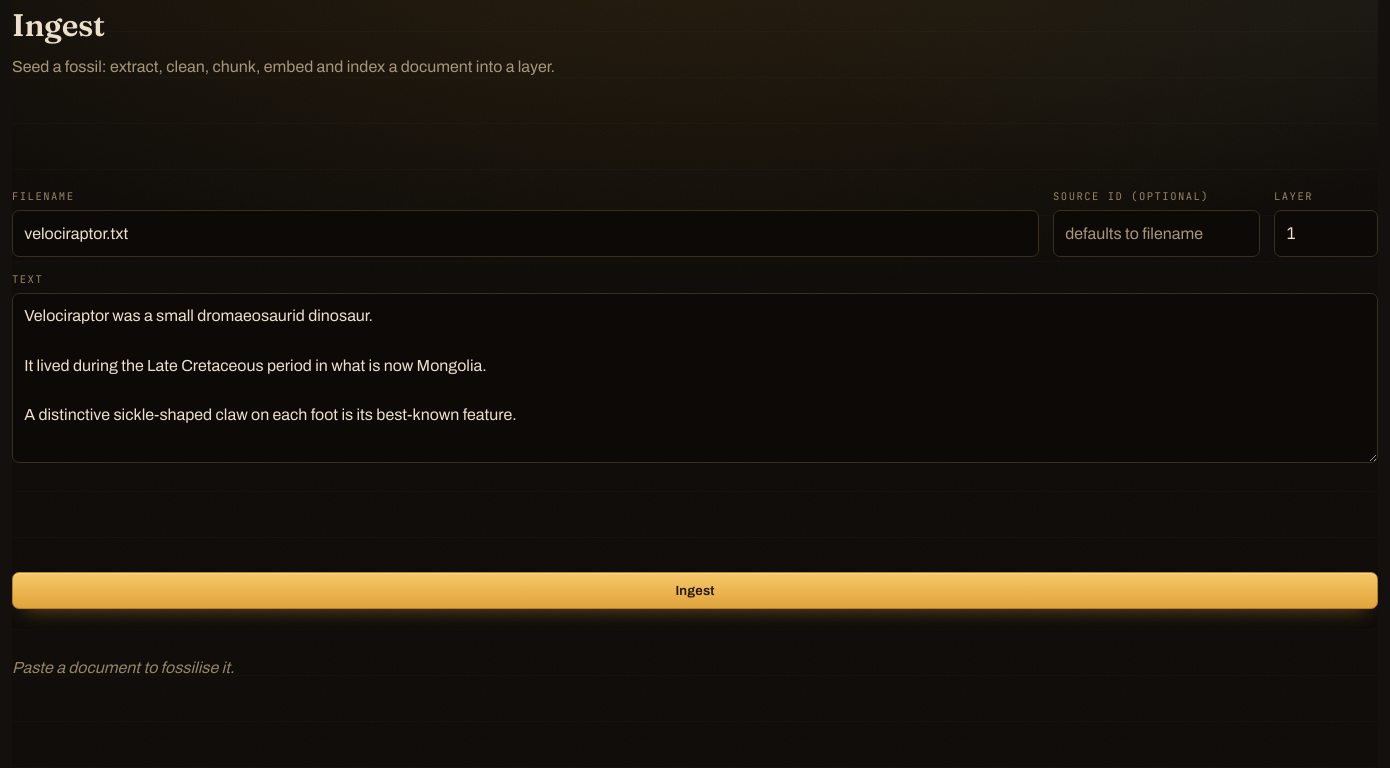
Scenario: IngestPanel › ingests the prefilled sample and reports the indexed chunks
Click the button "Ingest" at (695, 591), box [12, 572, 1378, 609]
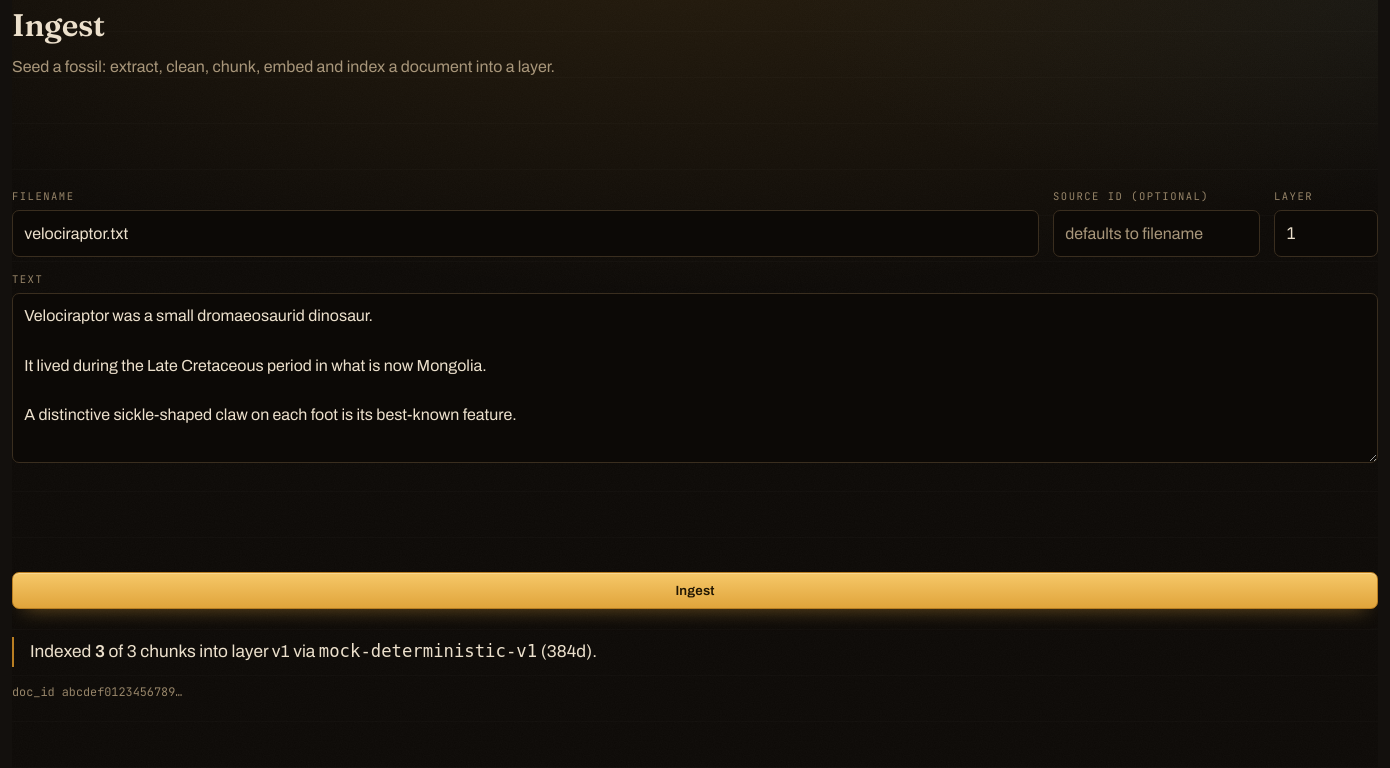
Expected: the text "Indexed" is shown, [30, 642, 95, 661]
Expected: the text "mock-deterministic-v1" is shown, [319, 641, 537, 661]
